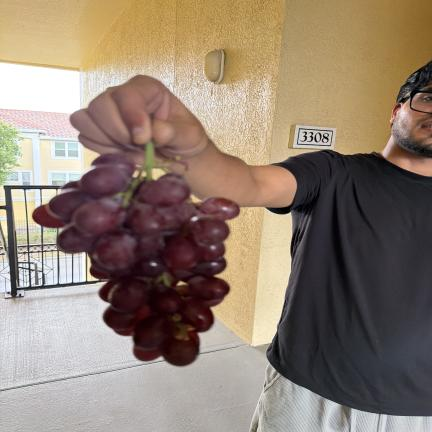grape_cluster: (33, 142, 239, 366)
